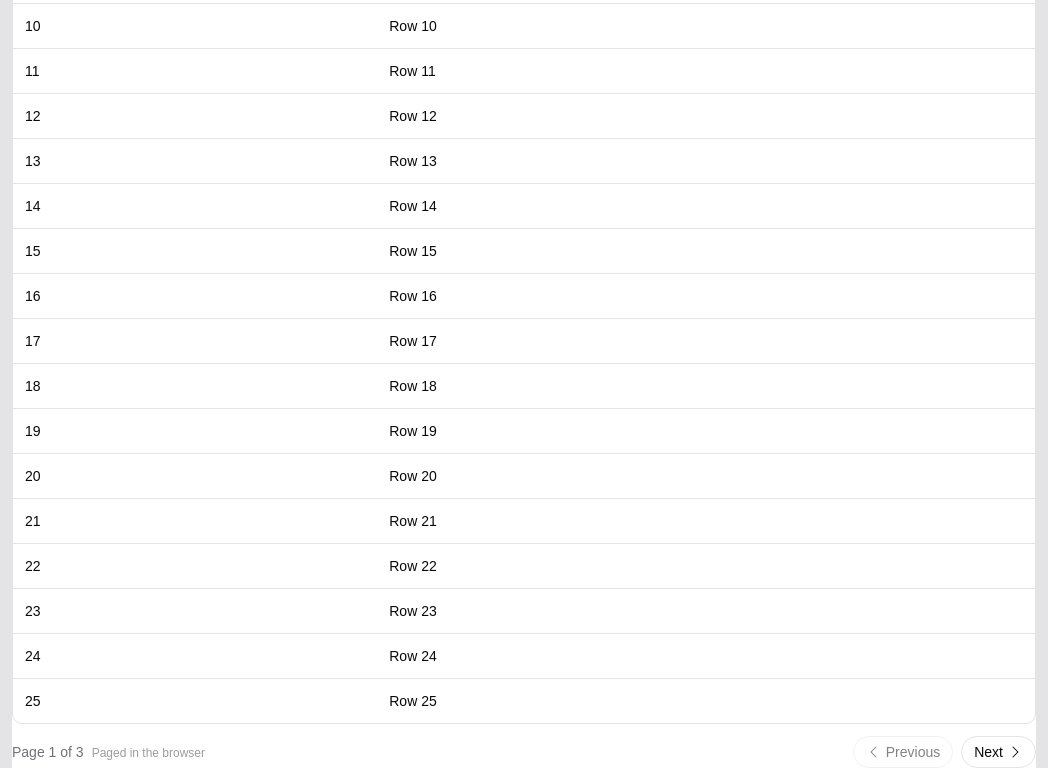
Test: DataTable › pages in the browser when the endpoint did not page
(page scrolled)
Expected: the text "Row 26" is not shown
Expected: the text "Paged in the browser" is shown, [92, 746, 205, 760]
Click the button "Next" at coordinates (999, 752), box [961, 736, 1036, 767]
(page scrolled)
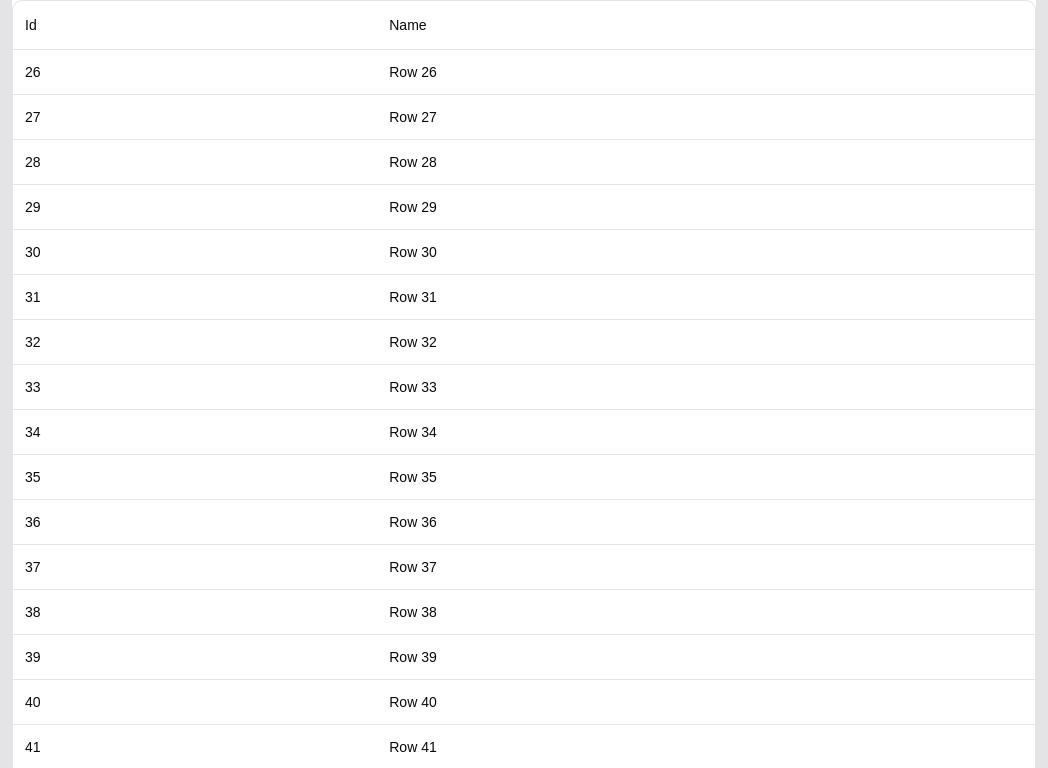
Expected: the text "Row 26" is shown, [377, 49, 1035, 94]
